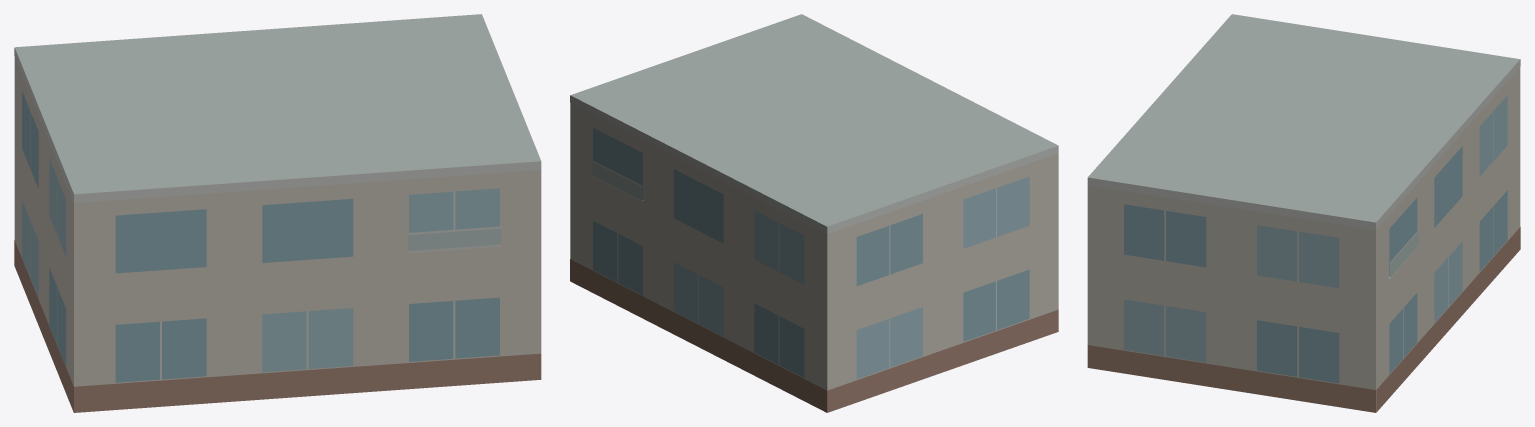
The model's file is survey-upis-33001961.glb.
The picture shows the model from 3 angles, left to right: view 1: azimuth 30°, elevation 25°; view 2: azimuth 150°, elevation 25°; view 3: azimuth 270°, elevation 25°; orthographic projection. The views are drawn at different scales.
Visible parts, largest first — view 1: survey-upis-33001961.tmp; view 2: survey-upis-33001961.tmp; view 3: survey-upis-33001961.tmp.
Boxes of the visible parts, left/top/right/bottom form: survey-upis-33001961.tmp: left=14, top=14, right=541, bottom=412; survey-upis-33001961.tmp: left=570, top=14, right=1058, bottom=412; survey-upis-33001961.tmp: left=1087, top=14, right=1520, bottom=412.
Bounding box in the file's own units: 14.34 × 6.1 × 12.58.
